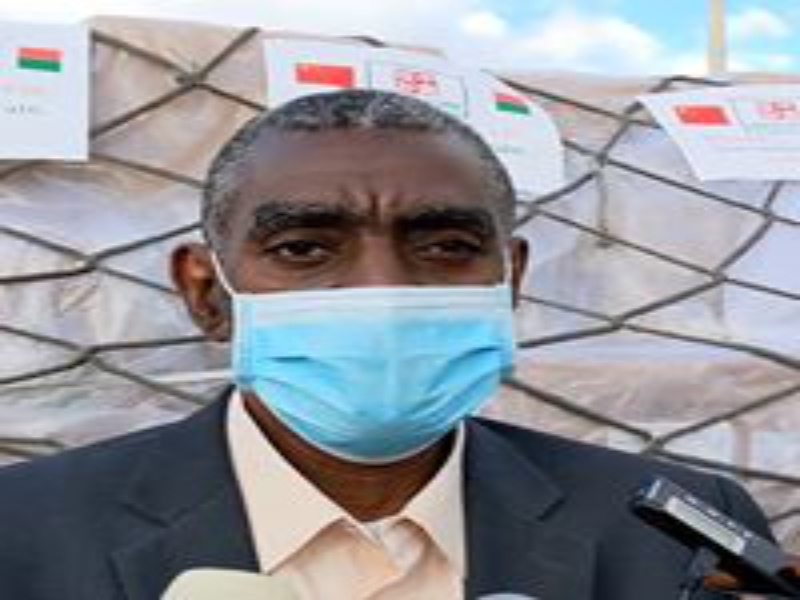ManaoArotava: (163, 89, 553, 505)
